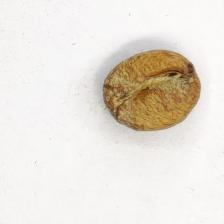NG: (111, 57, 190, 120)
